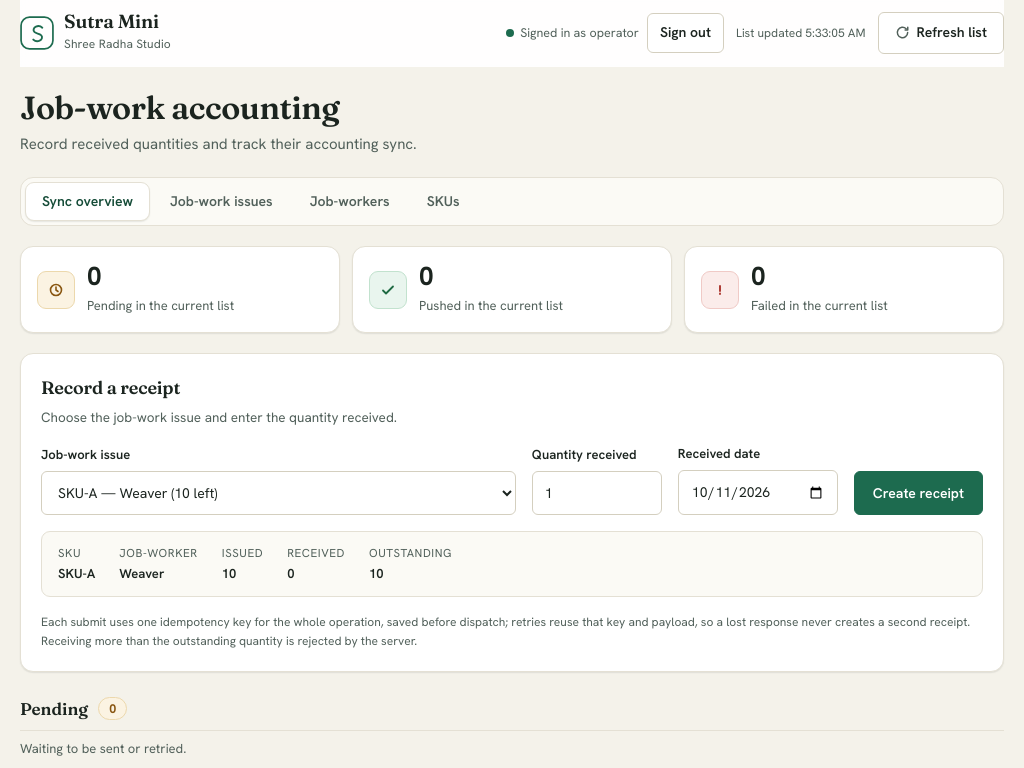
SyncPage refresh list › drops a late refresh response after logout instead of repopulating the signed-out UI
Click the button "Refresh list". click: (941, 33)
box: [878,12,1004,54]
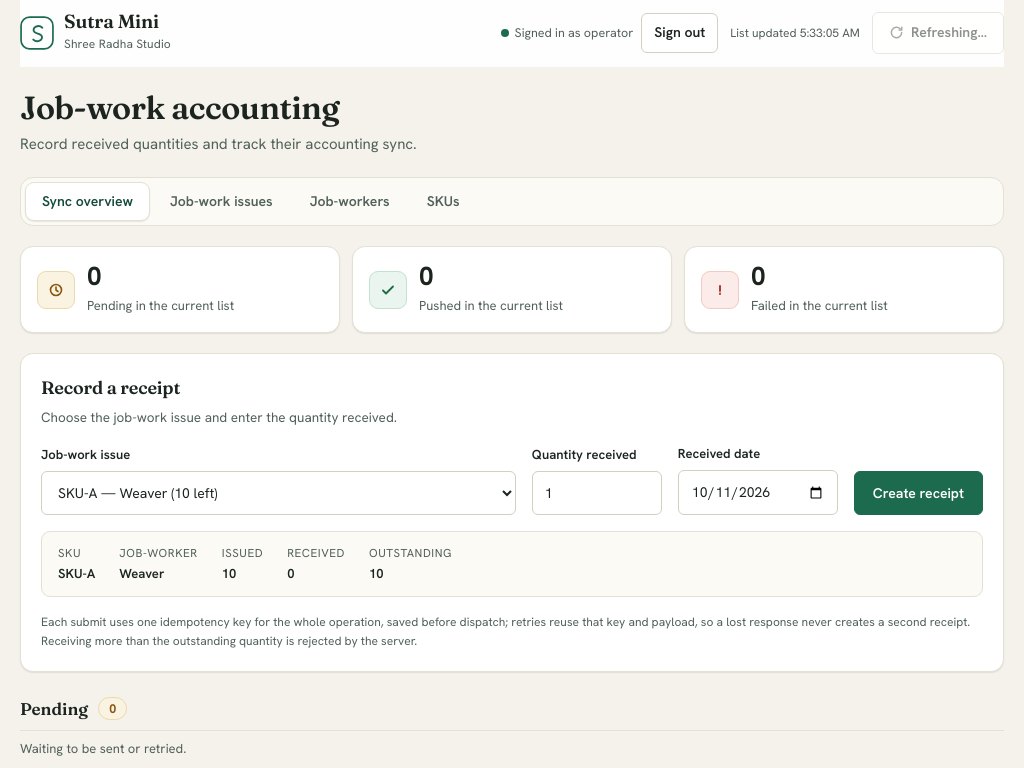
Click the button "Sign out". click: (680, 33)
box: [641,13,718,53]
Wait 10 ms
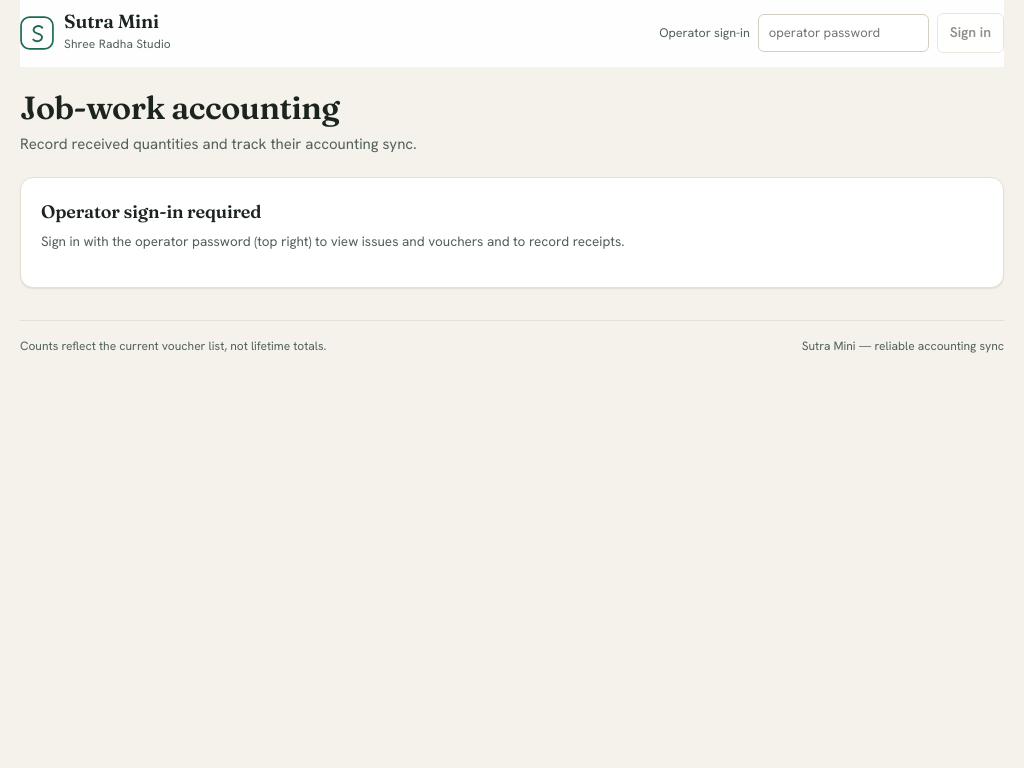
Check: the heading "Operator sign-in required" is shown, box [41,200,261,223]
